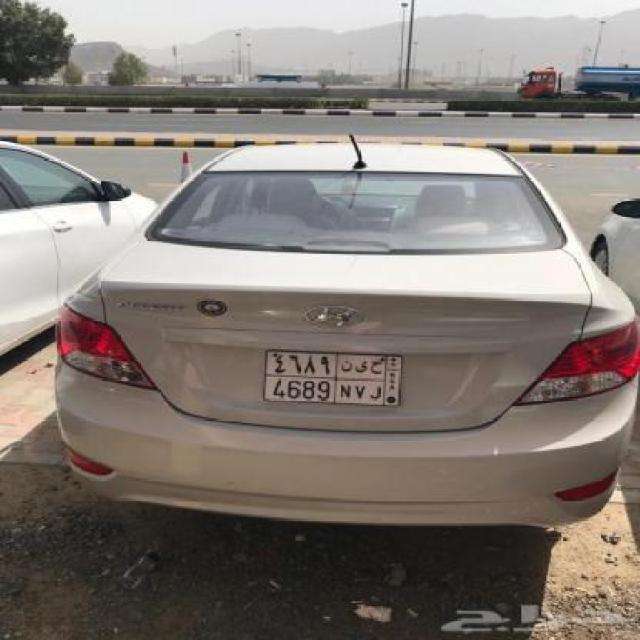license_plate: (261, 345, 405, 410)
